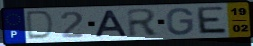2: (59, 10, 85, 39)
A: (94, 9, 130, 38)
D: (26, 10, 57, 41)
E: (197, 6, 230, 36)
G: (166, 7, 196, 36)
R: (126, 7, 162, 38)
